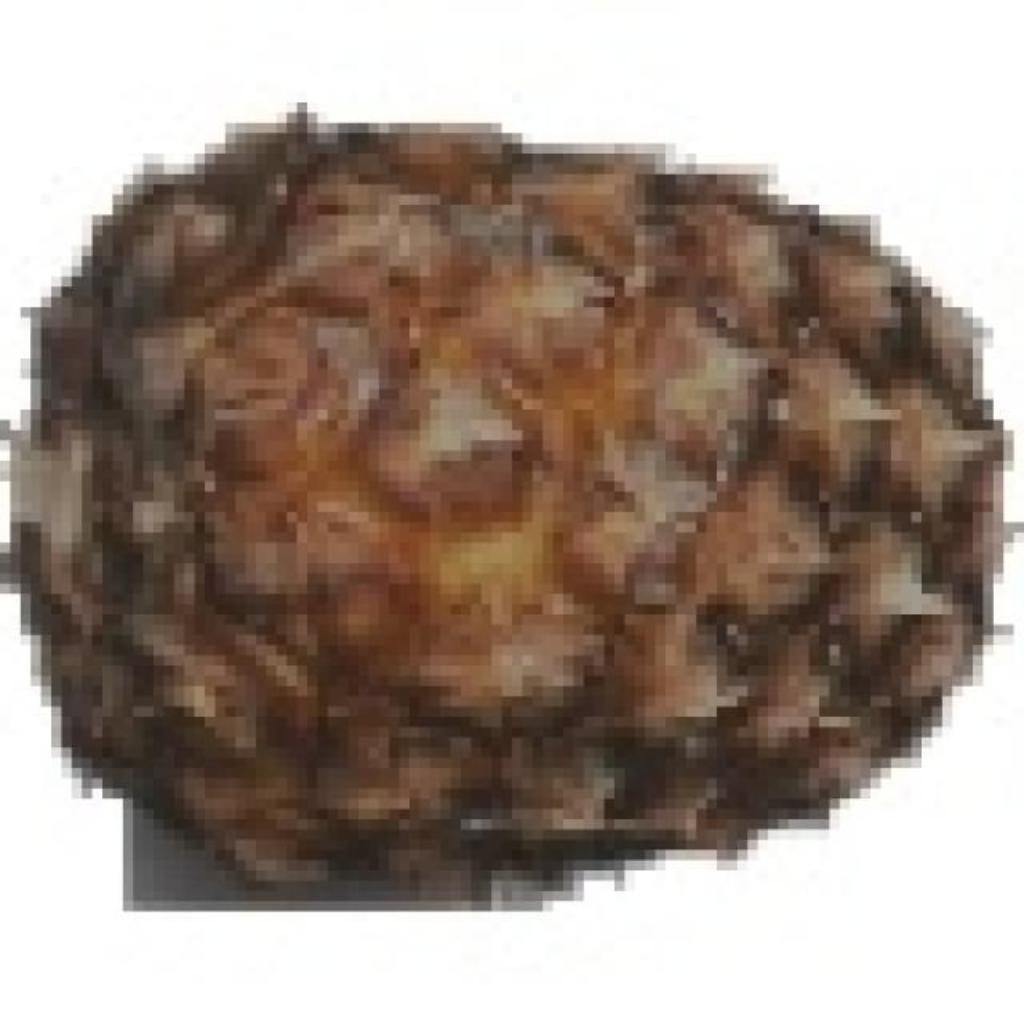pineapple: (41, 102, 1014, 881)
